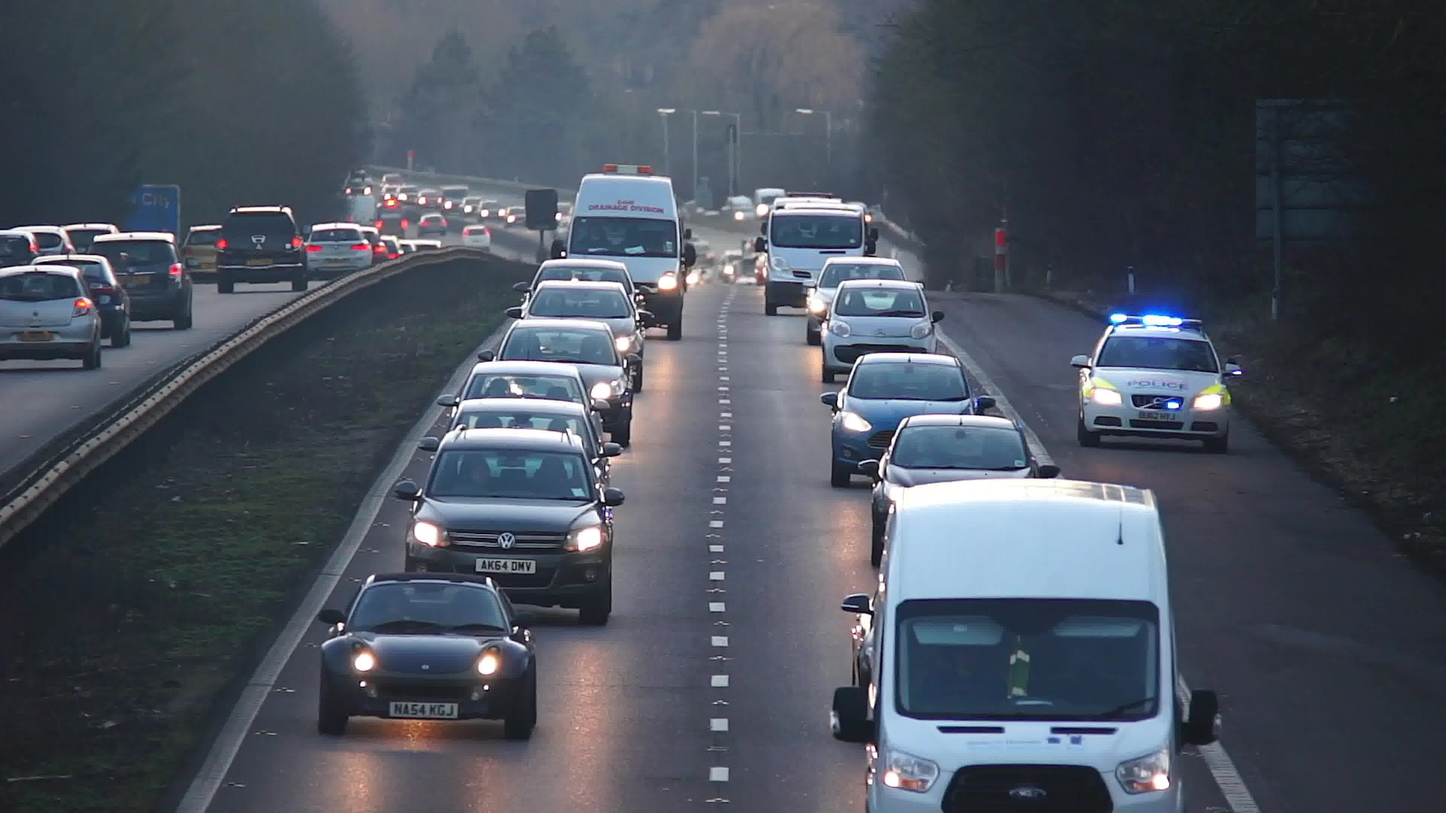bus: (548, 160, 700, 347)
car: (830, 476, 1222, 813), (389, 423, 624, 628), (316, 567, 540, 746), (859, 411, 1060, 569), (1069, 310, 1243, 454), (819, 349, 998, 485), (476, 316, 639, 447), (415, 395, 622, 492), (500, 278, 658, 391), (435, 356, 613, 442), (816, 275, 946, 384), (510, 254, 654, 337), (86, 226, 196, 333), (27, 248, 133, 353), (0, 262, 104, 369), (802, 251, 914, 344), (214, 201, 311, 297), (302, 219, 375, 276), (179, 223, 227, 282), (9, 222, 80, 259), (59, 222, 119, 257), (1, 225, 42, 271), (358, 216, 391, 269), (459, 221, 492, 256), (417, 210, 450, 238)
truck: (754, 181, 879, 321)
